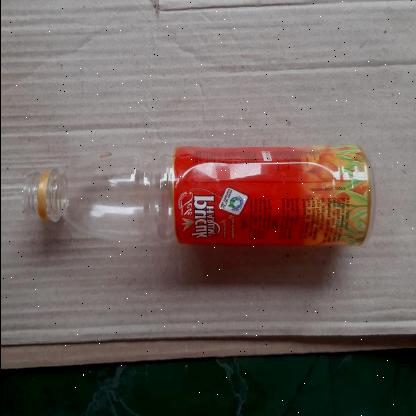Plastic Bottle: (22, 142, 380, 246)
